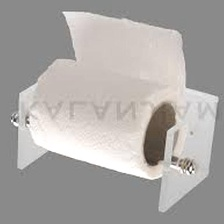tissue: (19, 4, 195, 186)
